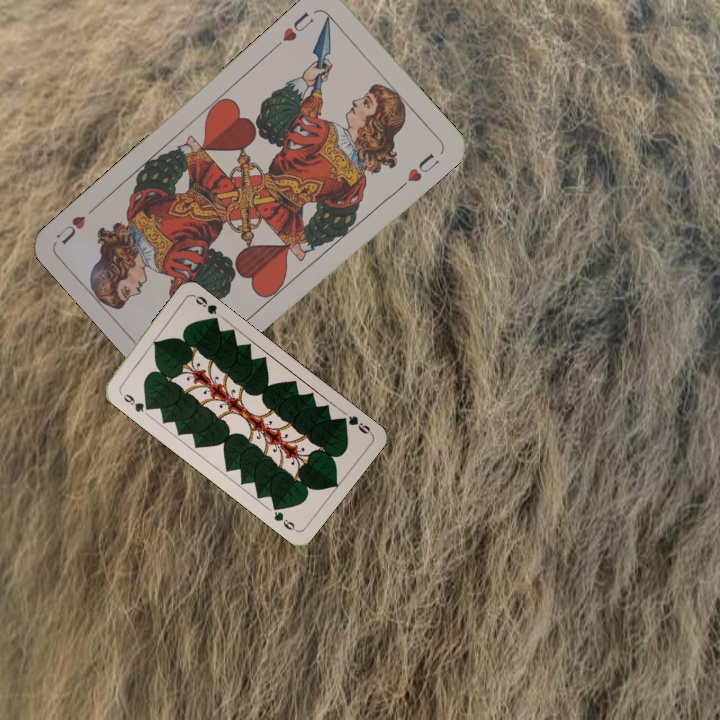G9: (115, 387, 153, 415), (335, 412, 374, 437)
HU: (278, 7, 317, 45)
